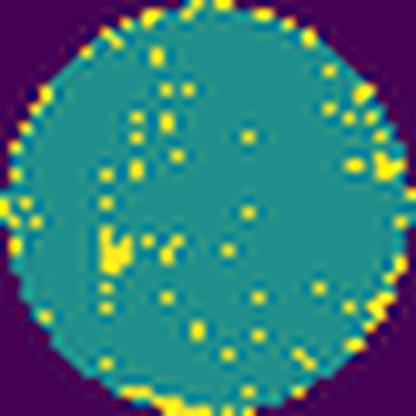Loc: (98, 223, 136, 277)
